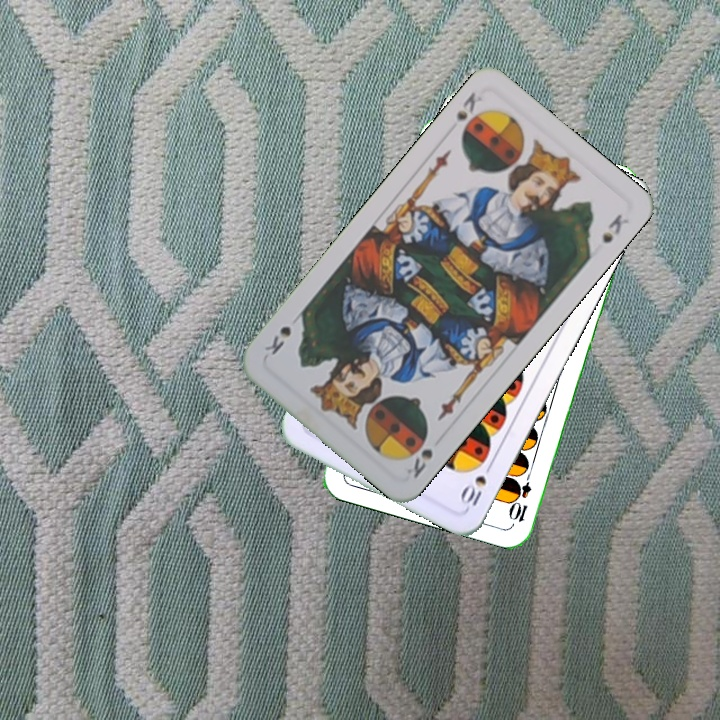E10: (508, 466, 535, 525)
S10: (456, 457, 496, 509)
SK: (451, 87, 485, 125), (402, 444, 436, 481)
